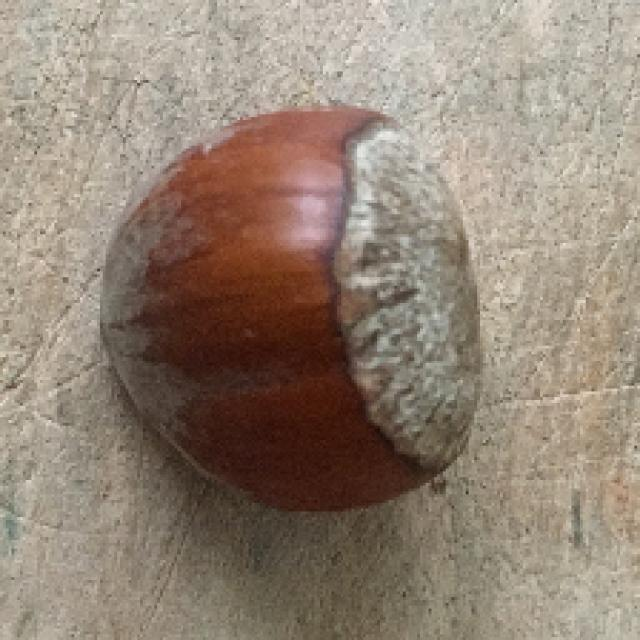qualityHazelnut: (99, 108, 482, 514)
